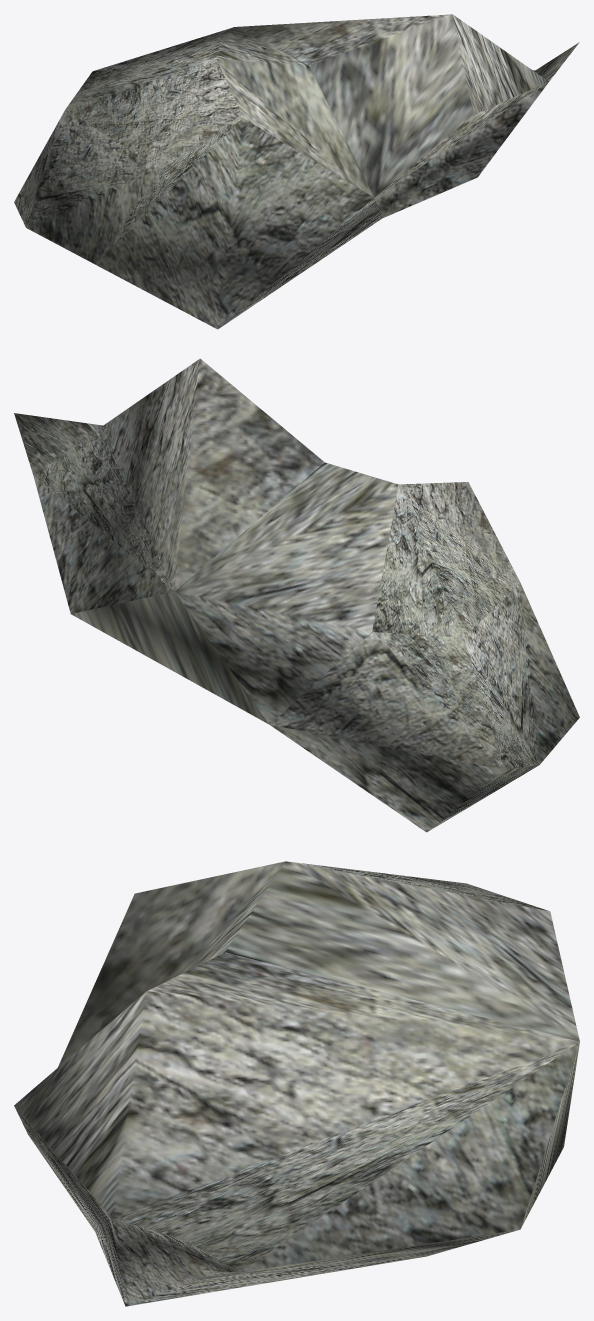
The model's file is rock4.fbx.
The picture shows the model from 3 angles, top to bottom: view 1: azimuth 30°, elevation 25°; view 2: azimuth 150°, elevation 25°; view 3: azimuth 270°, elevation 25°; orthographic projection. The views are drawn at different scales.
Parts seen in each view (by area): view 1: Cube; view 2: Cube; view 3: Cube.
Boxes of the visible parts, left/top/right/bottom form: Cube: left=14, top=14, right=579, bottom=329; Cube: left=14, top=358, right=579, bottom=832; Cube: left=14, top=861, right=579, bottom=1306.
Bounding box in the file's own units: 148 × 72.63 × 81.6.
